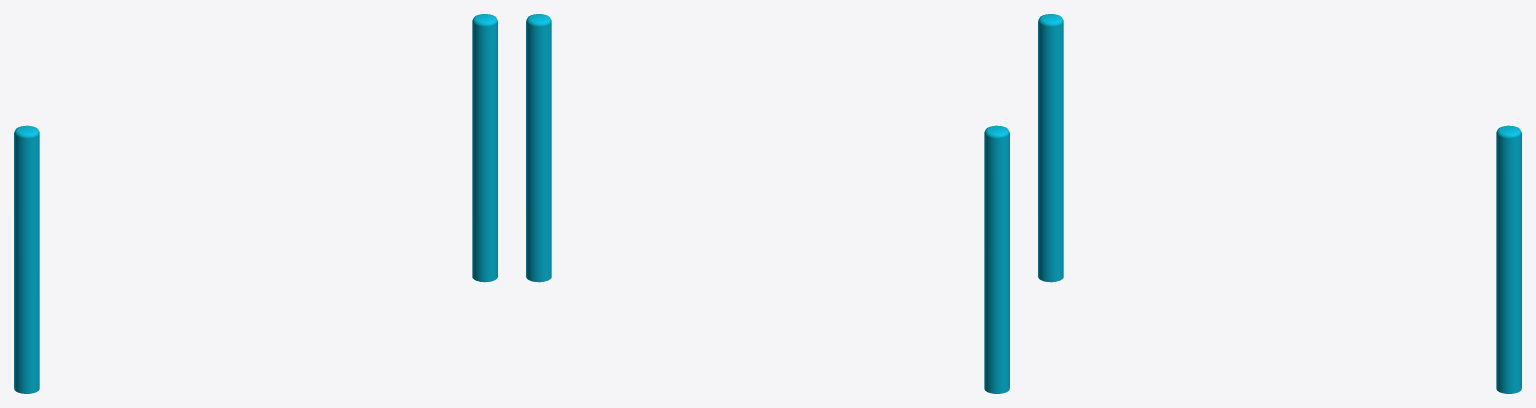
File: Door Irons.fbx
3 views of the same model, side by side, from view 1: azimuth 30°, elevation 25°; view 2: azimuth 150°, elevation 25°; view 3: azimuth 330°, elevation 25° (orthographic).
Visible parts, largest first — view 1: Door_Irons; view 2: Door_Irons; view 3: Door_Irons.
Boxes of the visible parts, <box> form: Door_Irons: <box>14,14,497,393</box>; Door_Irons: <box>526,14,1009,393</box>; Door_Irons: <box>1038,14,1521,393</box>.
Bounding box in the file's own units: 220 × 113 × 10.19.
